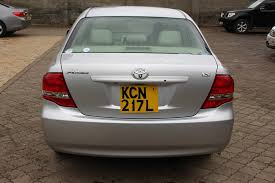licencePlate: (119, 82, 160, 113)
